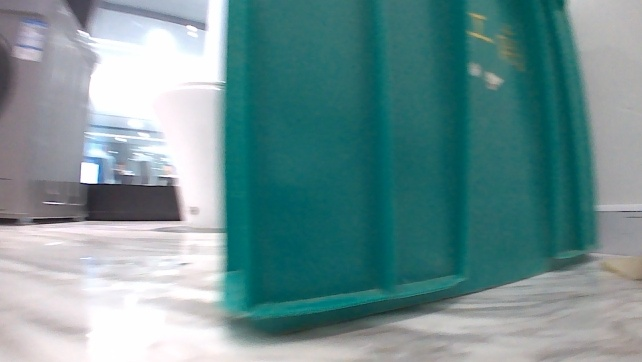toilet: (145, 75, 229, 233)
washing_machine1: (0, 0, 101, 230)
